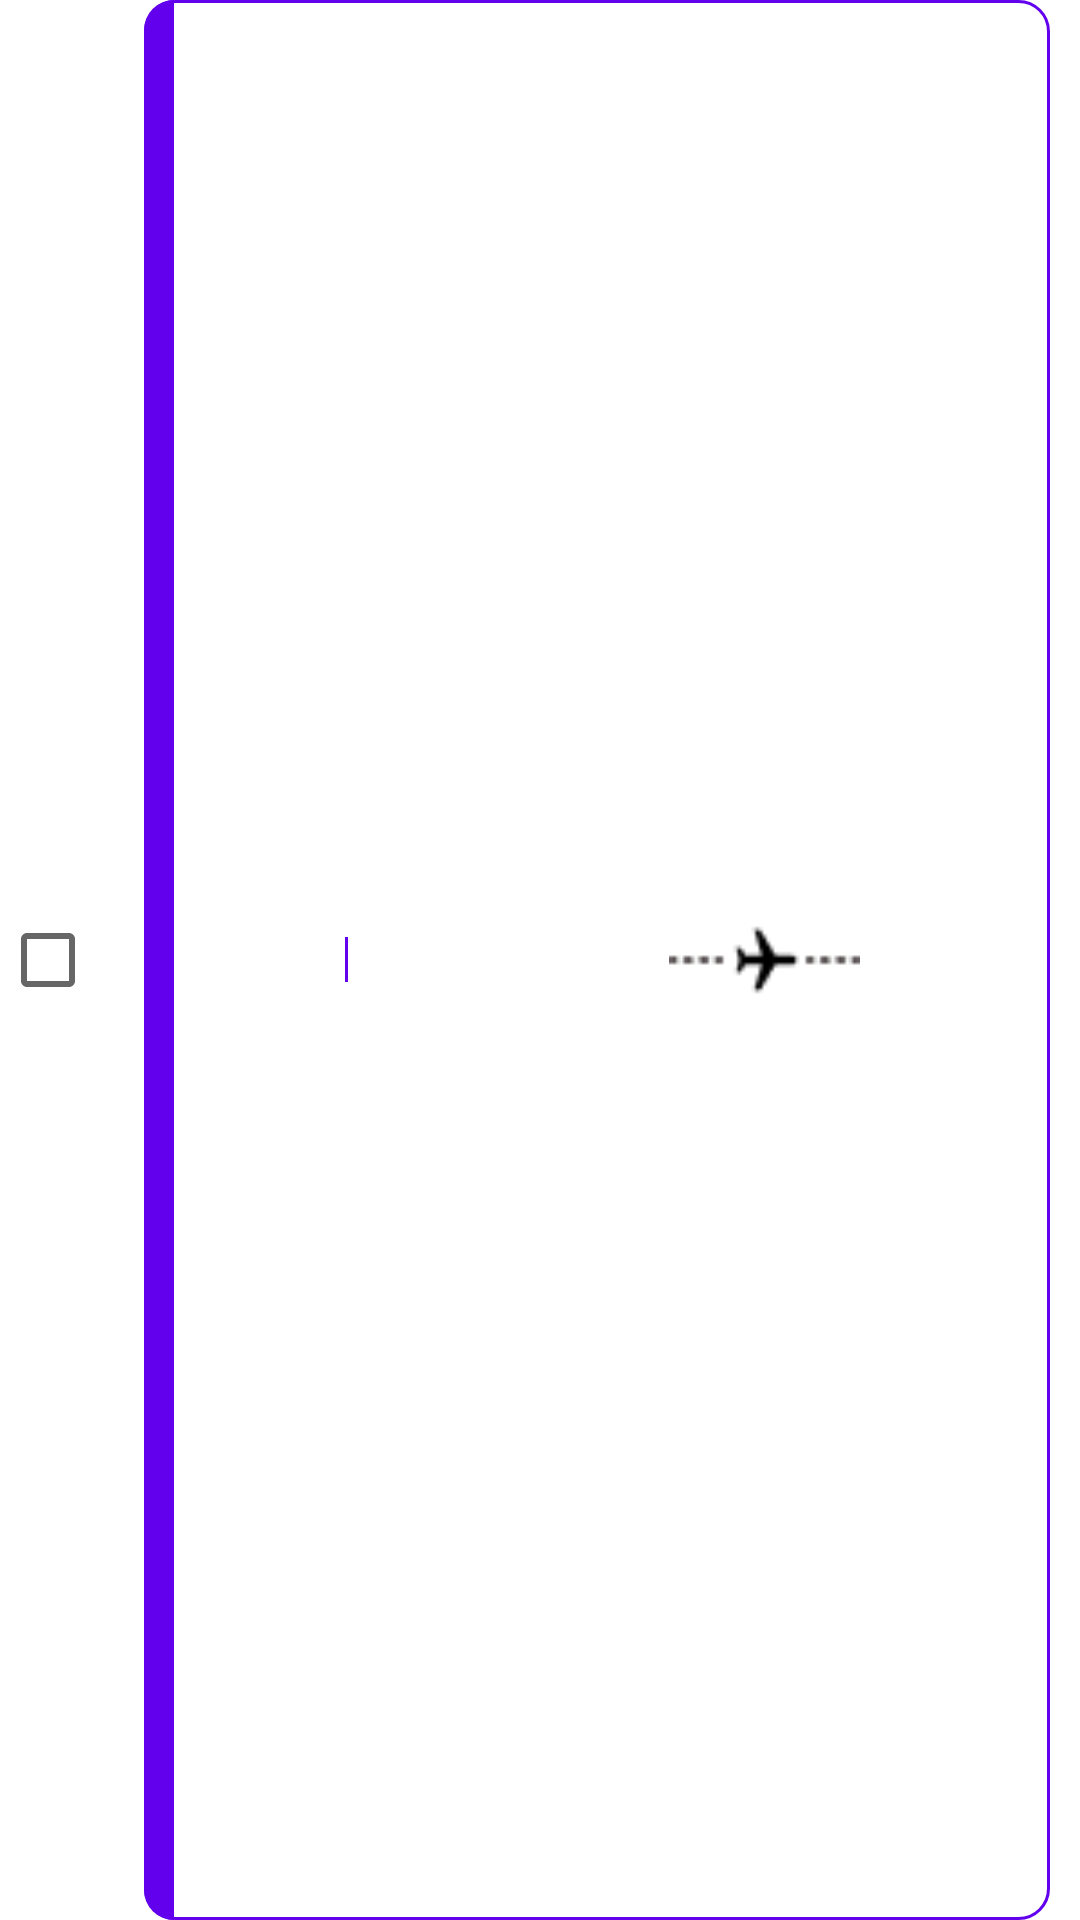

Icons on this 1080 × 1920 Android screen, each with its box as (x1, y1, x2, y2):
flighty board: (669, 927, 860, 993)
